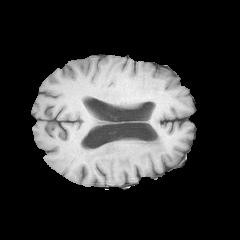glioma: (80, 136, 166, 169)
